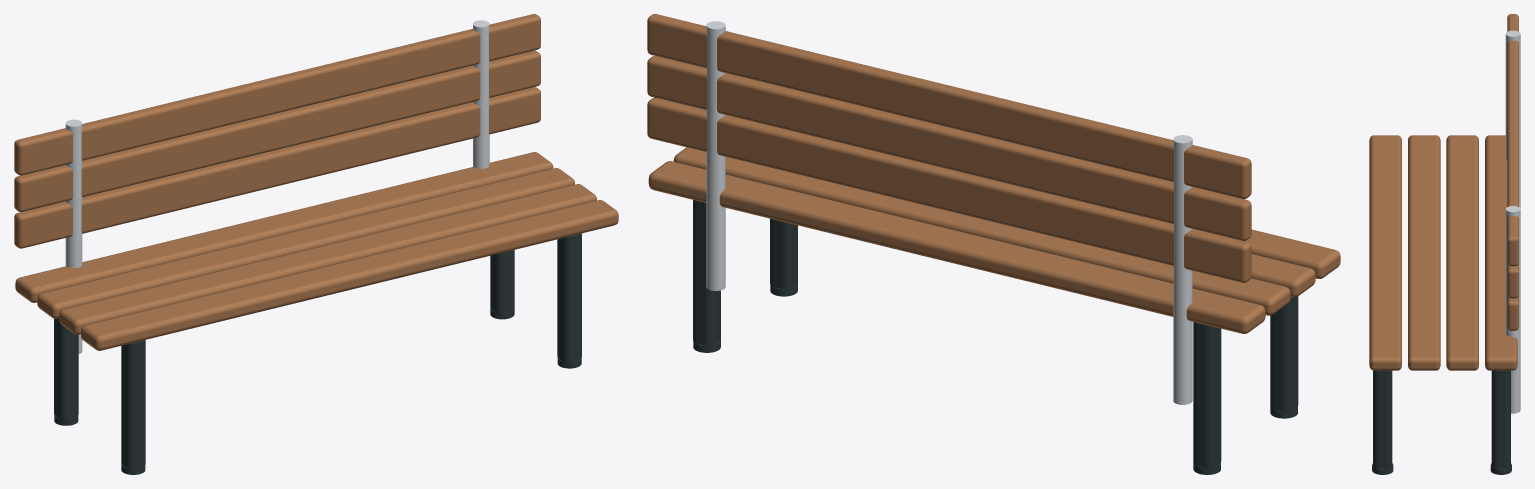
File: bench.glb
The picture shows the model from 3 angles, left to right: view 1: azimuth 30°, elevation 25°; view 2: azimuth 150°, elevation 25°; view 3: azimuth 270°, elevation 25°; orthographic projection. The views are drawn at different scales.
Visible parts, largest first — view 1: bench; view 2: bench; view 3: bench.
Part boxes in pixels (bbox=[...]): bench: bbox=[14, 14, 618, 474]; bench: bbox=[647, 14, 1340, 474]; bench: bbox=[1369, 14, 1520, 474].
Size of the model in its own units: 1.8 by 0.95 by 0.51.
